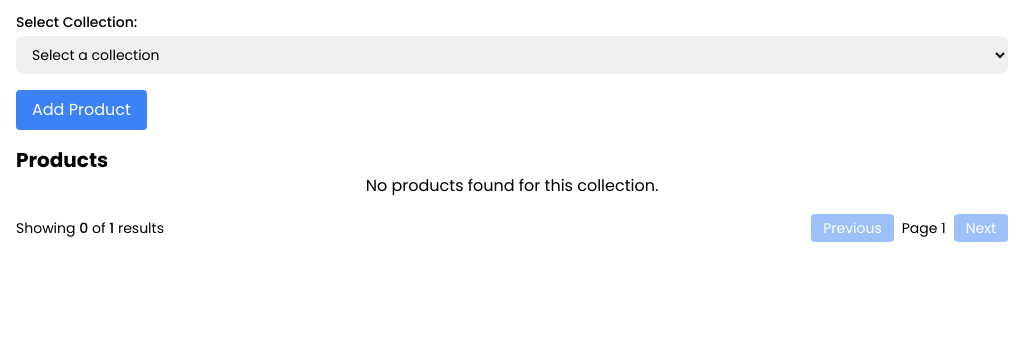
ViewProducts › fetches and displays products when a collection is selected
Select "Collection 1" in the dropdown labelled "Select Collection:" at {"x": 512, "y": 55}, box [16,36,1008,74]
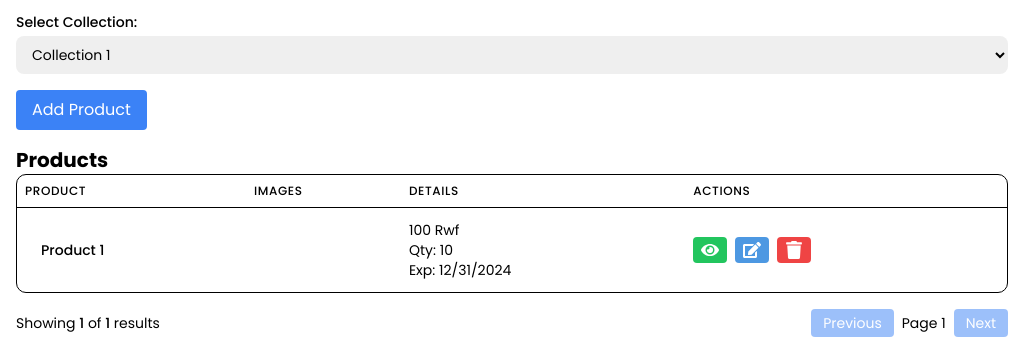
Expected: the text "Product 1" is shown, [41,240,104,260]
